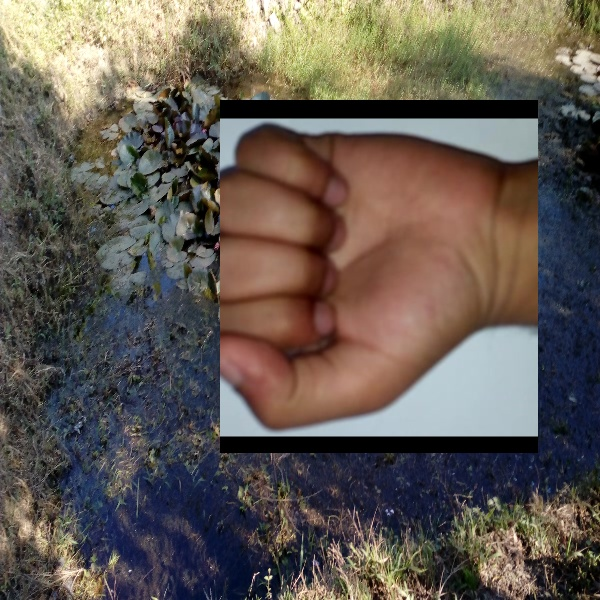A: (220, 100, 538, 453)
